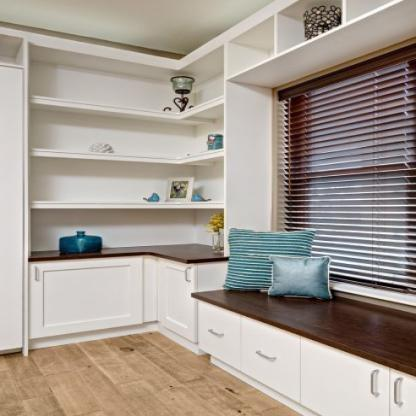Rak: (25, 39, 225, 245)
